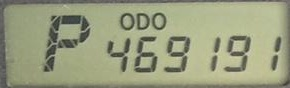1: (208, 36, 222, 72), (270, 35, 282, 72)
4: (106, 36, 132, 72)
6: (133, 35, 158, 73)
9: (162, 35, 191, 73), (223, 34, 251, 73)
X: (41, 13, 91, 73), (119, 12, 135, 30), (136, 12, 150, 30), (152, 12, 166, 30)
